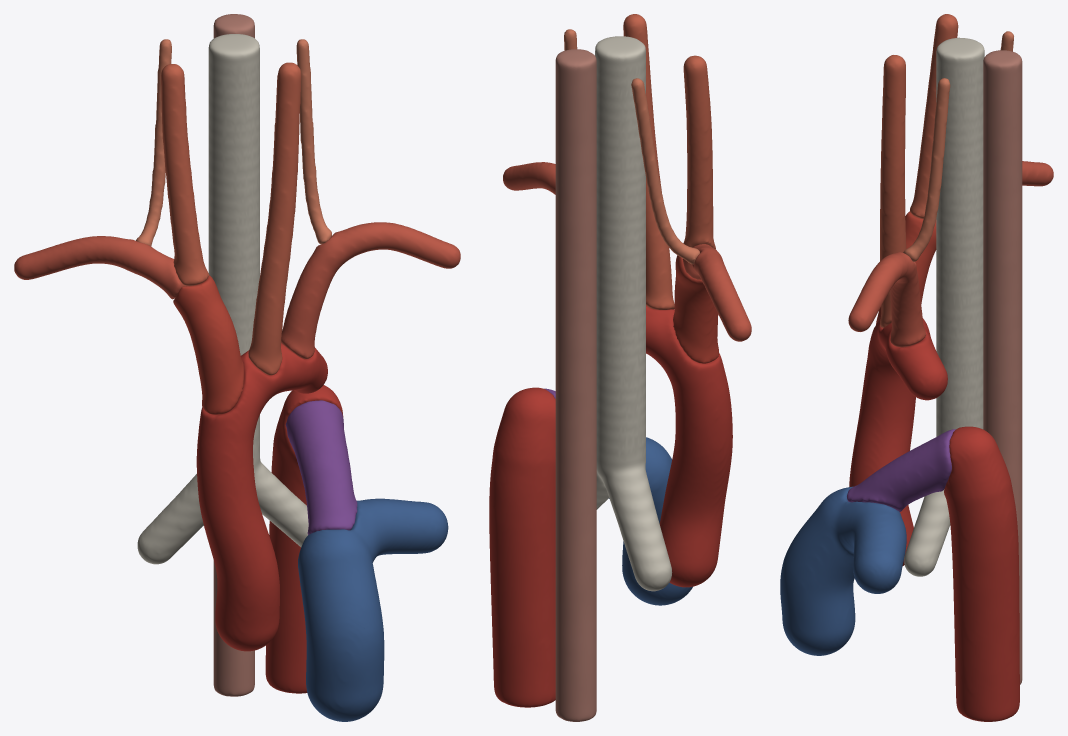
File: aorta_iaa_a.glb
3 renders of one model, left to right at view 1: azimuth 30°, elevation 25°; view 2: azimuth 150°, elevation 25°; view 3: azimuth 270°, elevation 25°, orthographic. The views are drawn at different scales.
Visible parts, largest first — view 1: aorta, trachea, pulmonary_trunk, left_common_carotid, left_subclavian, patent_ductus, right_common_carotid, brachiocephalic_trunk, right_subclavian, oesophagus, left_vertebral, right_vertebral; view 2: aorta, oesophagus, trachea, right_common_carotid, brachiocephalic_trunk, left_common_carotid, right_subclavian, right_vertebral, pulmonary_trunk, left_subclavian; view 3: aorta, trachea, oesophagus, pulmonary_trunk, left_common_carotid, left_subclavian, patent_ductus, right_common_carotid, left_vertebral, brachiocephalic_trunk, right_subclavian.
Boxes of the visible parts, bbox=[...] form: aorta: bbox=[196, 343, 343, 693]; trachea: bbox=[137, 34, 308, 564]; pulmonary_trunk: bbox=[298, 498, 448, 721]; left_common_carotid: bbox=[248, 62, 301, 375]; left_subclavian: bbox=[281, 222, 460, 358]; patent_ductus: bbox=[285, 400, 357, 534]; right_common_carotid: bbox=[161, 64, 209, 285]; brachiocephalic_trunk: bbox=[173, 275, 243, 414]; right_subclavian: bbox=[14, 236, 189, 299]; oesophagus: bbox=[213, 14, 254, 696]; left_vertebral: bbox=[296, 39, 331, 244]; right_vertebral: bbox=[136, 39, 171, 246]; aorta: bbox=[489, 305, 732, 707]; oesophagus: bbox=[555, 49, 596, 721]; trachea: bbox=[595, 36, 672, 591]; right_common_carotid: bbox=[683, 55, 715, 249]; brachiocephalic_trunk: bbox=[673, 250, 718, 363]; left_common_carotid: bbox=[623, 14, 674, 309]; right_subclavian: bbox=[682, 244, 751, 341]; right_vertebral: bbox=[631, 78, 699, 264]; pulmonary_trunk: bbox=[609, 437, 692, 605]; left_subclavian: bbox=[503, 162, 555, 194]; aorta: bbox=[849, 318, 1019, 721]; trachea: bbox=[904, 37, 984, 576]; oesophagus: bbox=[983, 50, 1022, 684]; pulmonary_trunk: bbox=[780, 486, 906, 655]; left_common_carotid: bbox=[880, 55, 906, 328]; left_subclavian: bbox=[848, 252, 926, 347]; patent_ductus: bbox=[847, 429, 955, 511]; right_common_carotid: bbox=[910, 14, 958, 218]; left_vertebral: bbox=[903, 78, 950, 261]; brachiocephalic_trunk: bbox=[876, 211, 936, 324]; right_subclavian: bbox=[1022, 161, 1053, 186].
Size of the model in its own units: 12.31 by 22.78 by 8.97.
